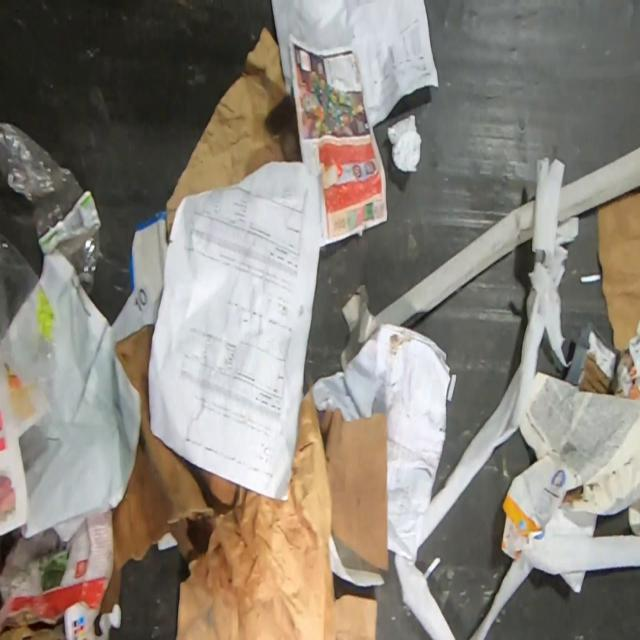cardboard: (99, 326, 378, 640), (166, 26, 302, 241), (0, 508, 115, 640), (316, 408, 388, 573), (596, 193, 640, 353)
rigid_plastic: (0, 121, 101, 301)
soft_plastic: (0, 231, 61, 410)
